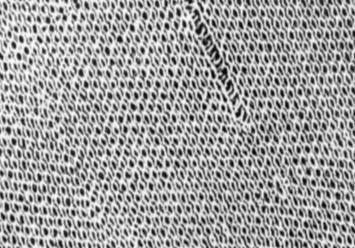slub: (178, 0, 258, 134)
